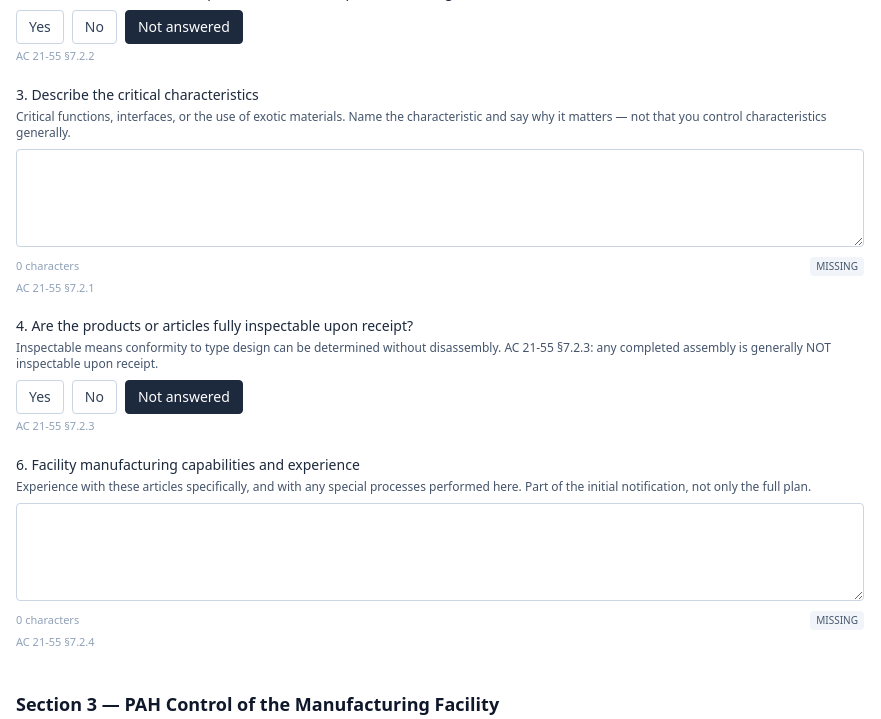
Test: the intake is adaptive, not a long static form › reveals the un-inspectable characteristics field only when the answer is No
(page scrolled)
Expected: the text "5. Identify the characteristics that cannot be inspected once received" is not shown
Click the 2nd button "No".
click(94, 397)  # box 72,380 -> 117,414
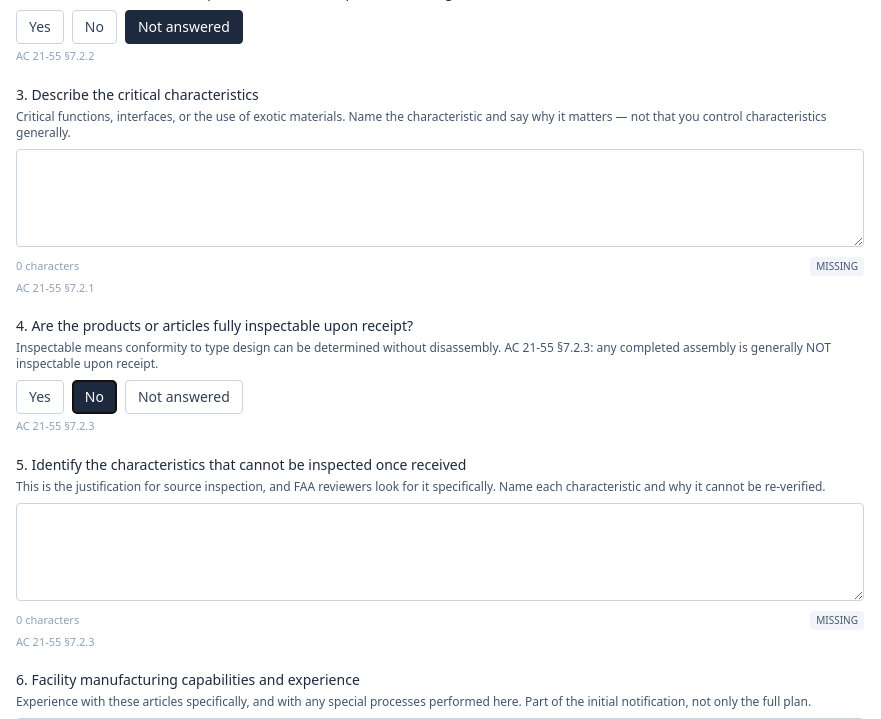
Expected: the text "5. Identify the characteristics that cannot be inspected once received" is shown, 16,454 -> 466,474
